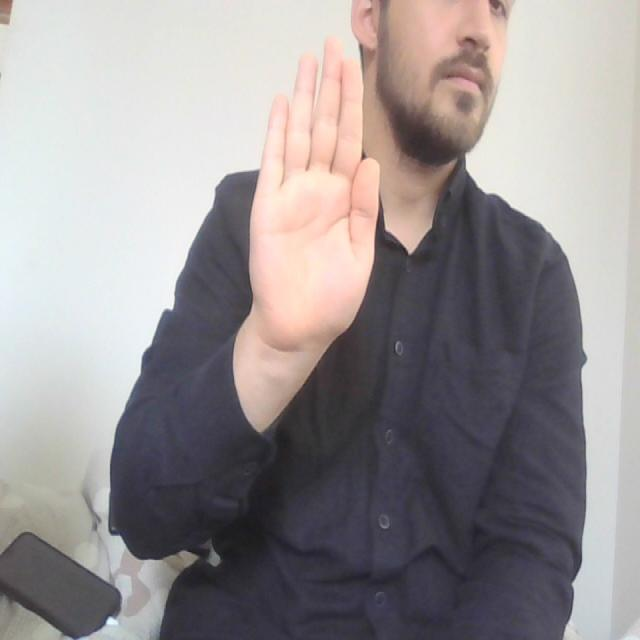Dur: (229, 28, 405, 362)
